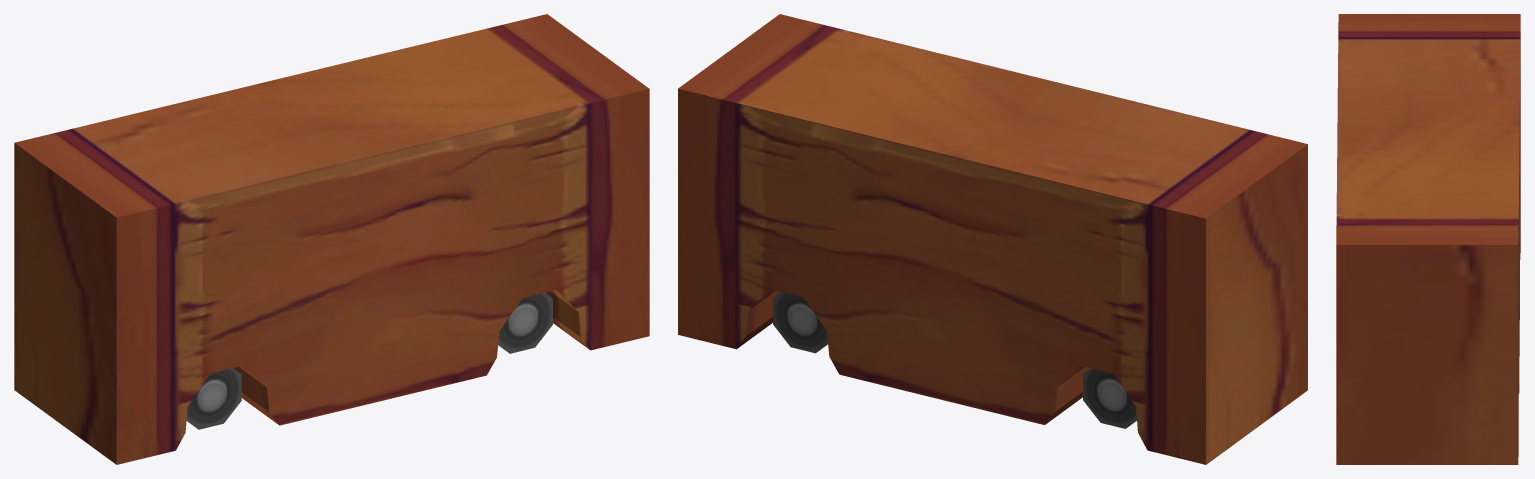
File: dynamic_fence_wood_01.fbx
3 views of the same model, side by side, from view 1: azimuth 30°, elevation 25°; view 2: azimuth 150°, elevation 25°; view 3: azimuth 270°, elevation 25° (orthographic). The views are drawn at different scales.
Visible parts, largest first — view 1: dynamic_fence_wood_01; view 2: dynamic_fence_wood_01; view 3: dynamic_fence_wood_01.
Part boxes in pixels (x1,y1,x2,y2): dynamic_fence_wood_01: [14, 14, 649, 464]; dynamic_fence_wood_01: [678, 14, 1307, 464]; dynamic_fence_wood_01: [1336, 14, 1520, 464].
Size of the model in its own units: 90 by 40 by 30.38.
